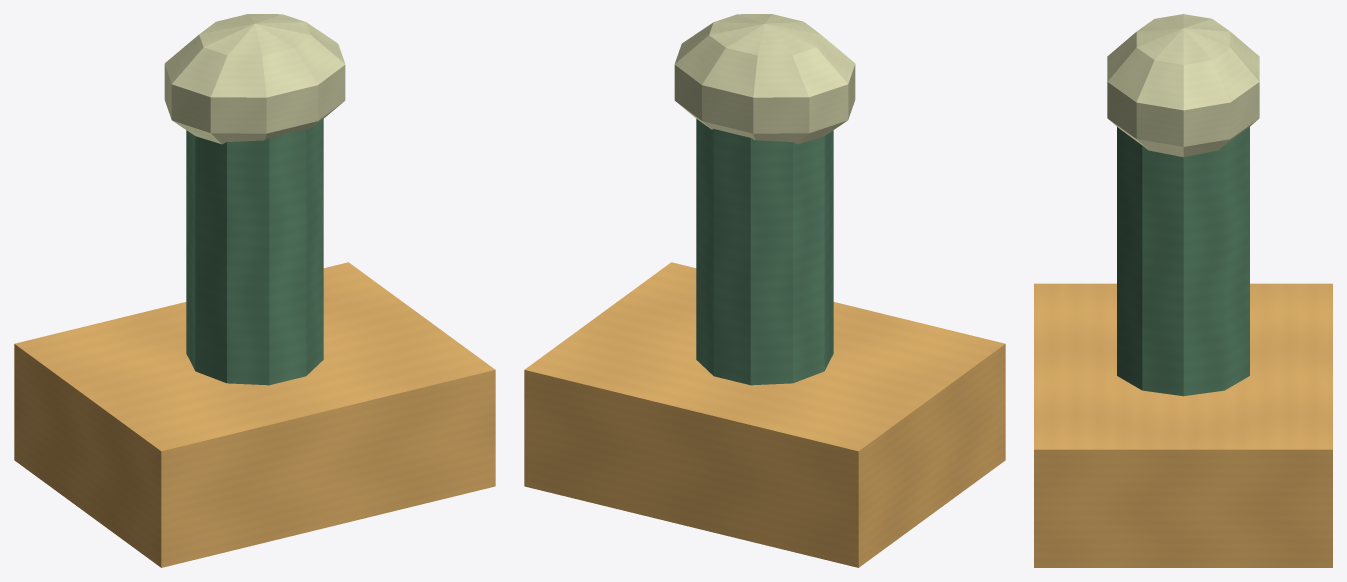
Rendered from atlas100-s004-a05.glb.
3 views of the same model, side by side, from view 1: azimuth 30°, elevation 25°; view 2: azimuth 150°, elevation 25°; view 3: azimuth 270°, elevation 25° (orthographic).
Visible parts, largest first — view 1: atlas100-s004-a05:part-000, atlas100-s004-a05:part-001, atlas100-s004-a05:part-002; view 2: atlas100-s004-a05:part-000, atlas100-s004-a05:part-001, atlas100-s004-a05:part-002; view 3: atlas100-s004-a05:part-000, atlas100-s004-a05:part-001, atlas100-s004-a05:part-002.
Part boxes in pixels (left/top/right/bottom): atlas100-s004-a05:part-000: left=14, top=262, right=495, bottom=567; atlas100-s004-a05:part-001: left=186, top=118, right=323, bottom=385; atlas100-s004-a05:part-002: left=164, top=14, right=345, bottom=144; atlas100-s004-a05:part-000: left=524, top=262, right=1005, bottom=567; atlas100-s004-a05:part-001: left=696, top=118, right=833, bottom=385; atlas100-s004-a05:part-002: left=674, top=14, right=855, bottom=144; atlas100-s004-a05:part-000: left=1034, top=283, right=1332, bottom=567; atlas100-s004-a05:part-001: left=1117, top=127, right=1249, bottom=396; atlas100-s004-a05:part-002: left=1107, top=14, right=1259, bottom=157.
Bounding box in the file's own units: 0.4586 × 0.5897 × 0.3494.
Materials: 3 (3 with a texture image).
